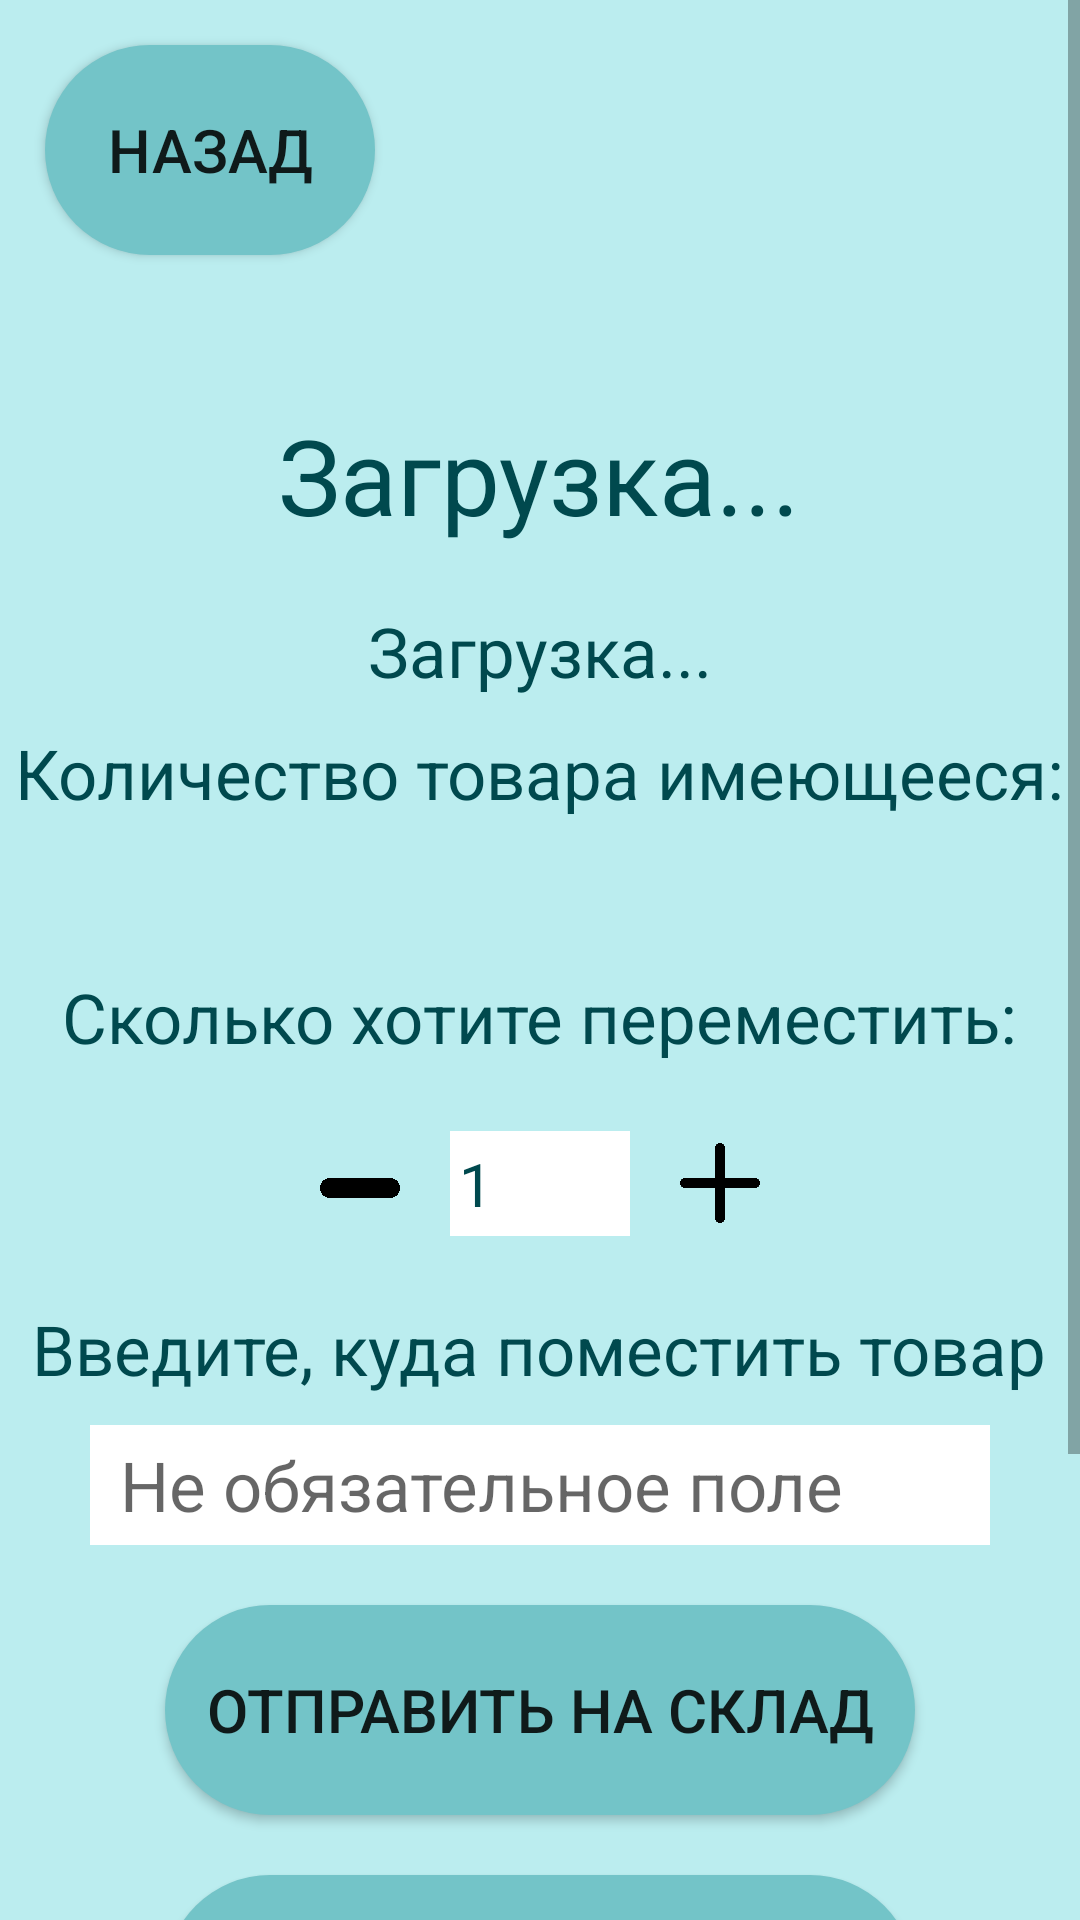

Named icons in this screenshot (1080px x 1920px) and their bounding boxes, (x1, y1, x2, y2):
plus: (680, 1143, 760, 1223)
